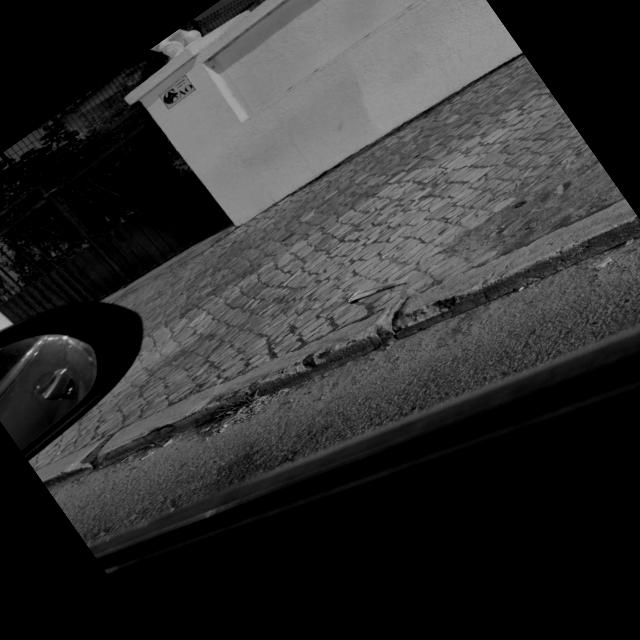Cigarette: (597, 259, 612, 269), (142, 450, 154, 459), (164, 439, 173, 447), (201, 426, 211, 432)
Food Carton: (349, 275, 415, 302)
